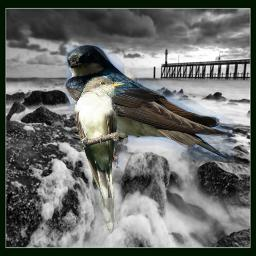Cuckoo: (74, 75, 125, 233)
Swallow: (65, 45, 234, 167)
